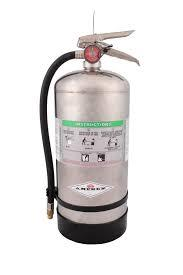Fire Extinguisher: (37, 18, 142, 246)
